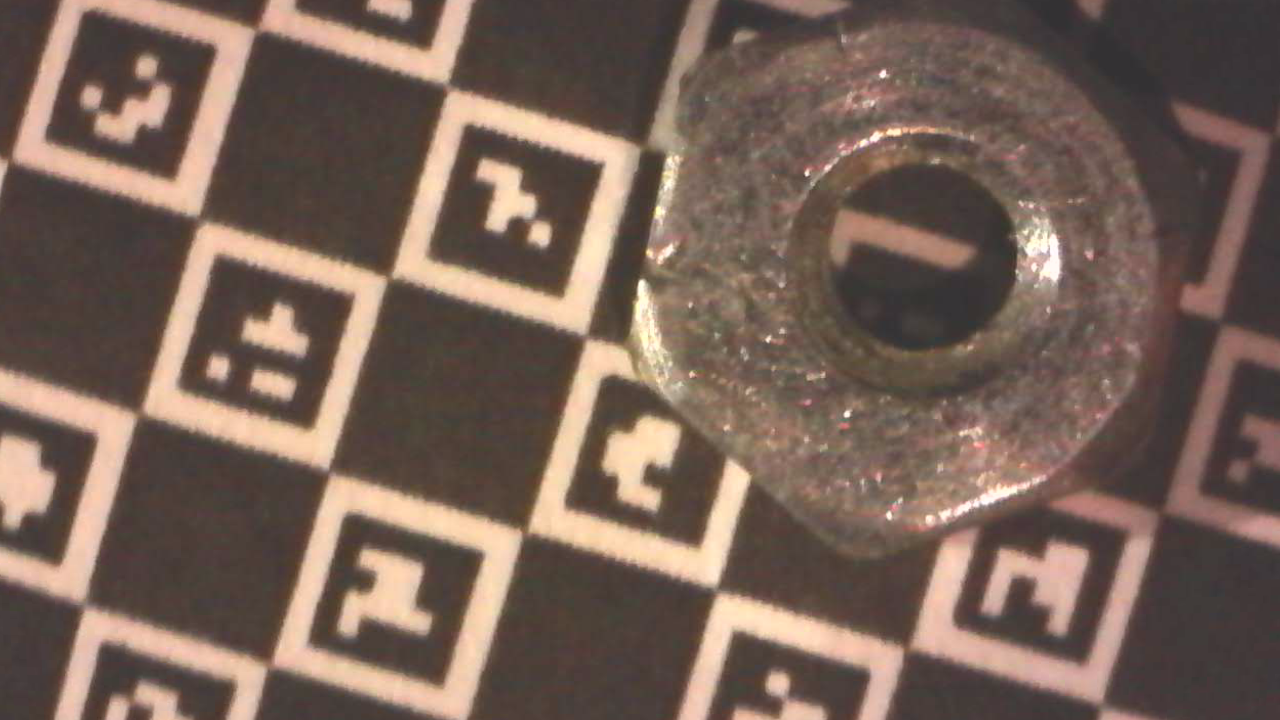Bolt: (624, 0, 1209, 566)
